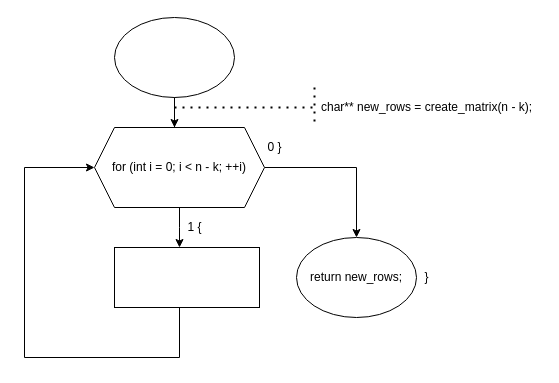
Image size: 559x383. Some labels were removed from this diagram. The box of each missing label's shape, as (x1, y1, x2, y2) in pixels:
char** change_matrix(char** rows, unsigned int n, unsigned int k): (114, 16, 234, 98)
new_rows[i] = rows[k + i];: (114, 246, 260, 308)
